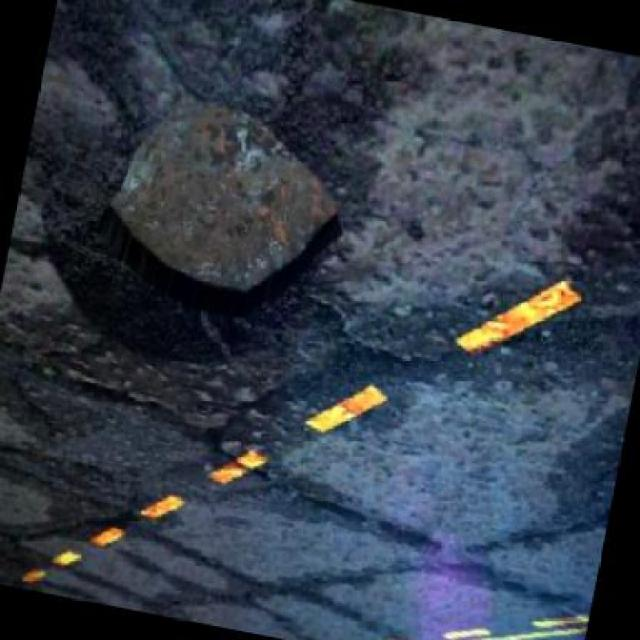pothole1: (84, 79, 365, 338)
